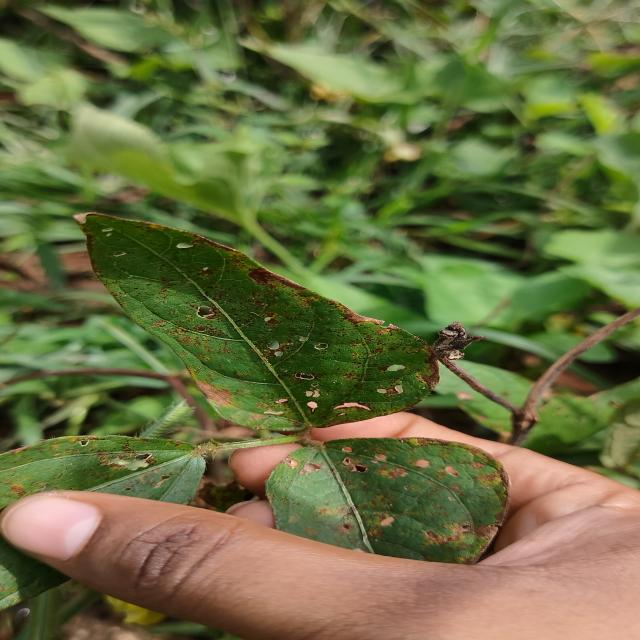Black gram_leaf spot: (68, 210, 436, 431), (270, 435, 501, 640), (0, 427, 219, 640)
